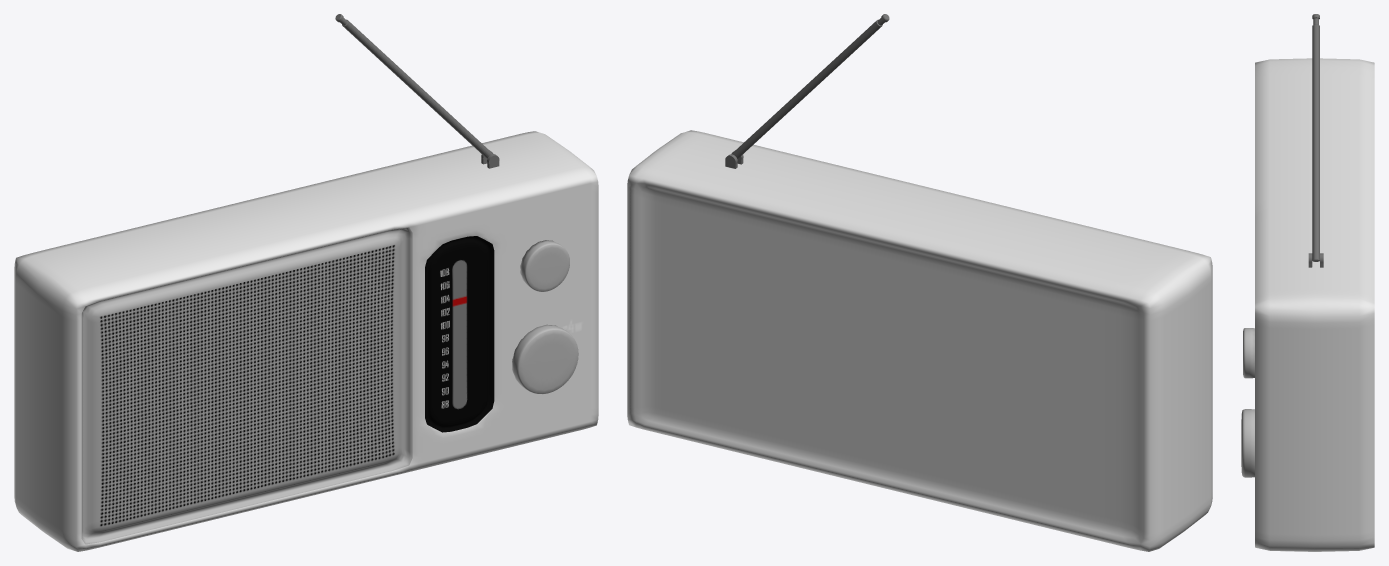
File: radio.fbx
3 renders of one model, left to right at view 1: azimuth 30°, elevation 25°; view 2: azimuth 150°, elevation 25°; view 3: azimuth 270°, elevation 25°, orthographic. The views are drawn at different scales.
Visible parts, largest first — view 1: pCylinder14; view 2: pCylinder14; view 3: pCylinder14.
Boxes of the visible parts, <box> form: pCylinder14: <box>14,14,598,551</box>; pCylinder14: <box>627,14,1212,551</box>; pCylinder14: <box>1241,14,1374,551</box>.
Size of the model in its own units: 1.85 by 1.48 by 0.4098.
